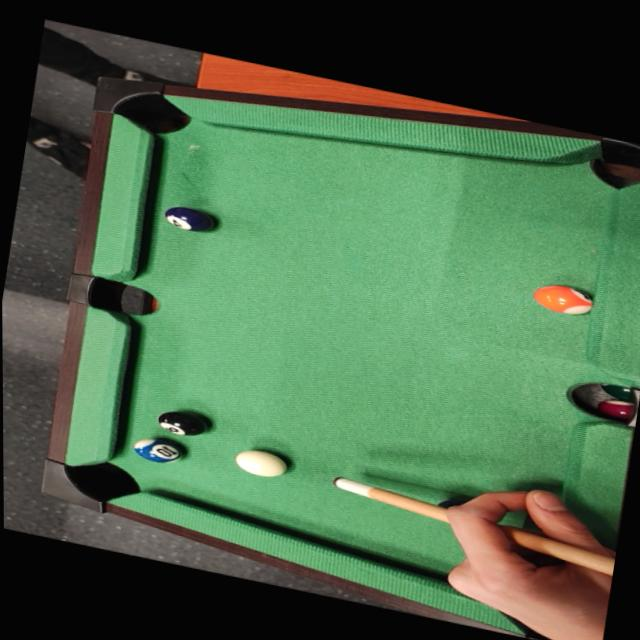cue ball: (227, 443, 290, 482)
other: (522, 275, 601, 322), (130, 433, 188, 472), (159, 202, 220, 238), (155, 406, 208, 442)
